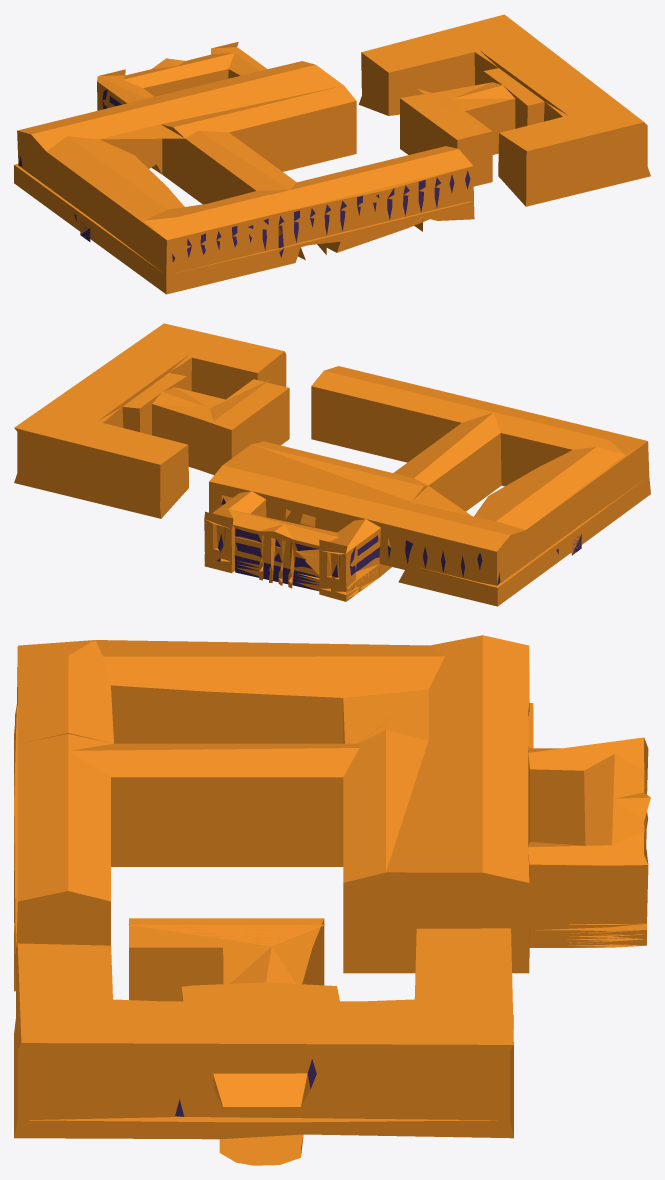
The model's file is UM_RADOM_CAŁYV2.fbx.
The picture shows the model from 3 angles, top to bottom: view 1: azimuth 30°, elevation 25°; view 2: azimuth 150°, elevation 25°; view 3: azimuth 270°, elevation 25°; orthographic projection. The views are drawn at different scales.
Visible parts, largest first — view 1: UM_RADOM_CAŁY; view 2: UM_RADOM_CAŁY; view 3: UM_RADOM_CAŁY.
Boxes of the visible parts, x1=… form: UM_RADOM_CAŁY: x1=14, y1=14, x2=650, y2=294; UM_RADOM_CAŁY: x1=14, y1=323, x2=650, y2=606; UM_RADOM_CAŁY: x1=14, y1=635, x2=650, y2=1165.
Bounding box in the file's own units: 41.21 × 4.46 × 25.46.
1 material, 1 textured.
